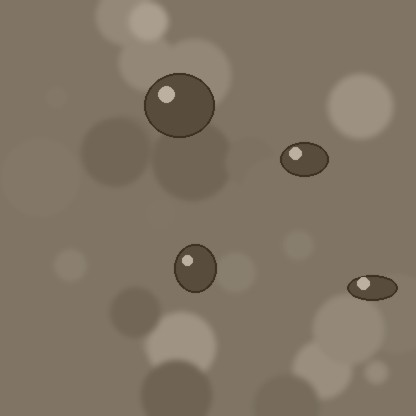gota: (144, 75, 214, 143), (174, 246, 216, 296), (280, 143, 328, 179), (347, 276, 397, 302)
